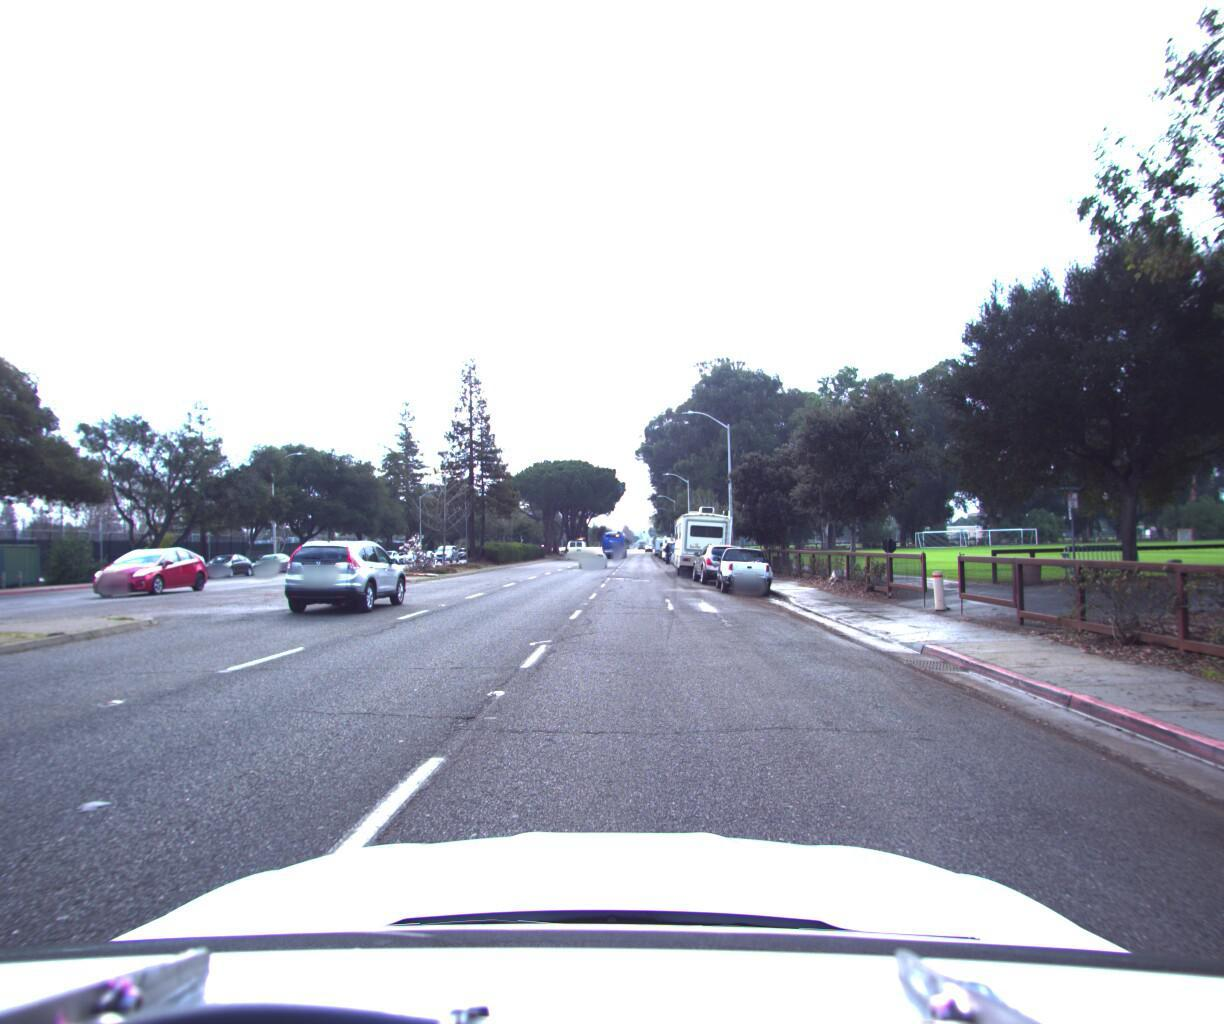car: (278, 537, 413, 614), (82, 541, 212, 595), (712, 536, 779, 589), (691, 533, 752, 578), (197, 547, 260, 576), (245, 546, 302, 573), (577, 538, 608, 560), (429, 537, 461, 556), (566, 531, 589, 552), (375, 542, 402, 559)
other_vehicle: (671, 497, 736, 571), (659, 527, 688, 554)
